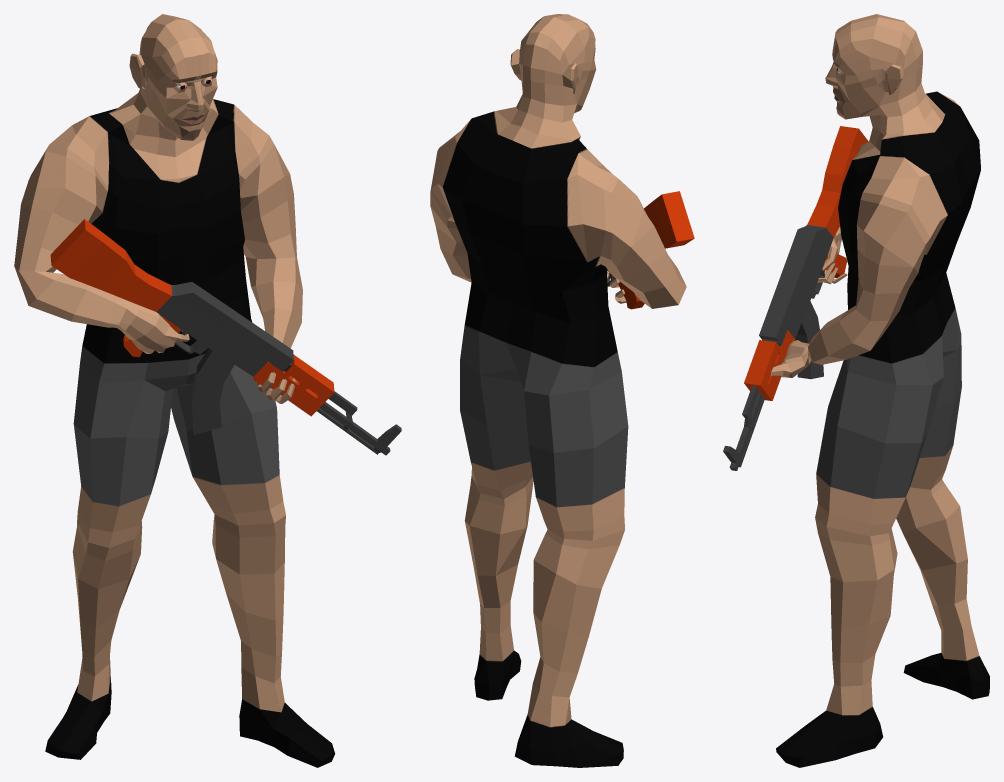
The model's file is PlayerIdle(24).obj.
3 renders of one model, left to right at view 1: azimuth 30°, elevation 25°; view 2: azimuth 150°, elevation 25°; view 3: azimuth 270°, elevation 25°, orthographic. The views are drawn at different scales.
Visible parts, largest first — view 1: Plane002, Object001; view 2: Plane002, Object001; view 3: Plane002, Object001.
Boxes of the visible parts, left/top/right/bottom form: Plane002: left=14, top=14, right=335, bottom=767; Object001: left=50, top=219, right=401, bottom=455; Plane002: left=430, top=14, right=686, bottom=767; Object001: left=607, top=191, right=694, bottom=309; Plane002: left=770, top=14, right=989, bottom=767; Object001: left=723, top=126, right=867, bottom=470.
Size of the model in its own units: 748 by 1809 by 629.
